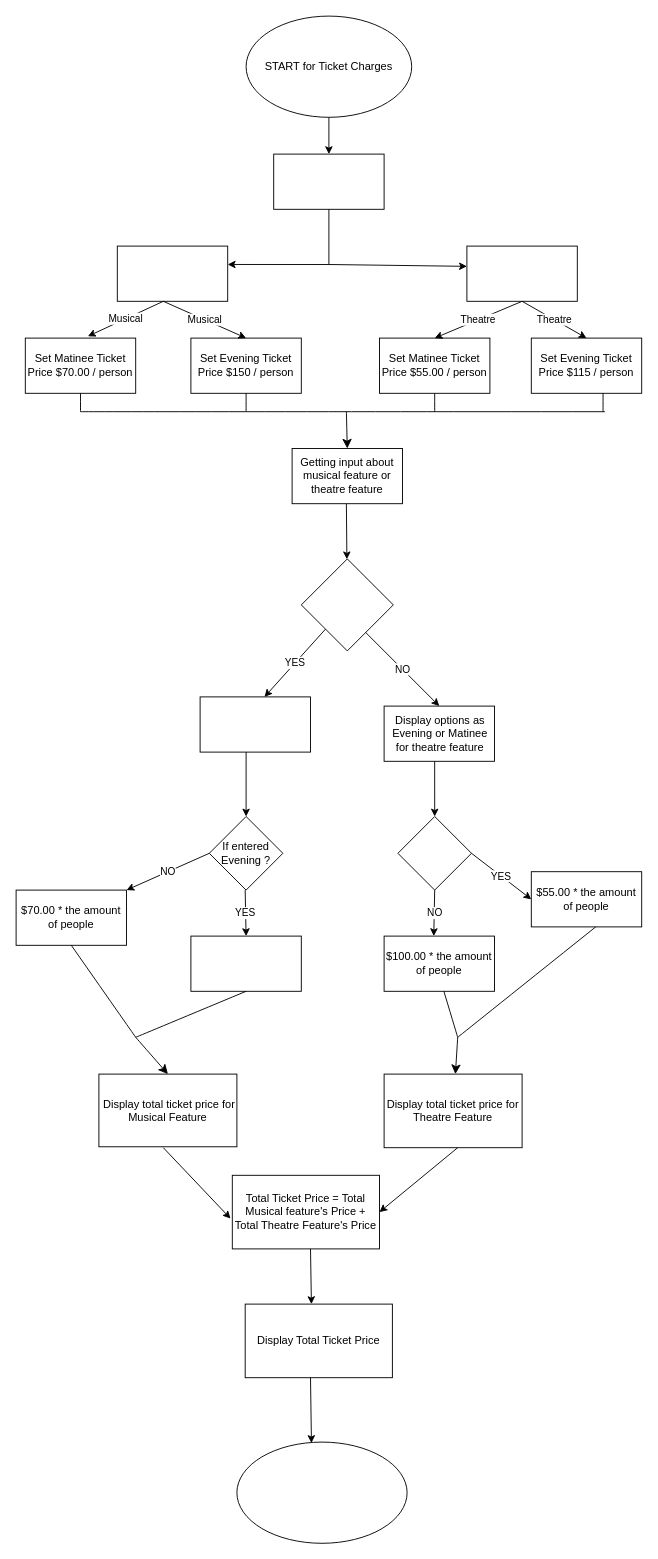
Image size: 658x1559. Some labels were removed from this diagram. The shapes that lost their labels are listed below. From the top down, each one's centre as x and y in pixels, then its label:
point 328,181: Set the price
point 172,273: Musical Feature (Evening or Matinee)
point 521,273: Theatre Feature Evening or Matinee)
point 346,604: If entered for musical feature or not ?
point 254,724: Display options as Evening or Matinee for musical feature
point 434,853: If entered Matinee ?
point 245,963: $150.00 * the amount of people
point 321,1492: END
